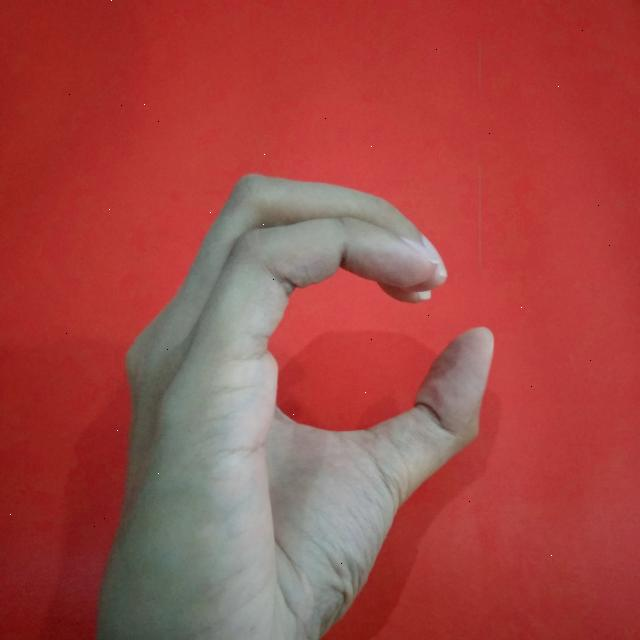C: (95, 170, 502, 640)
